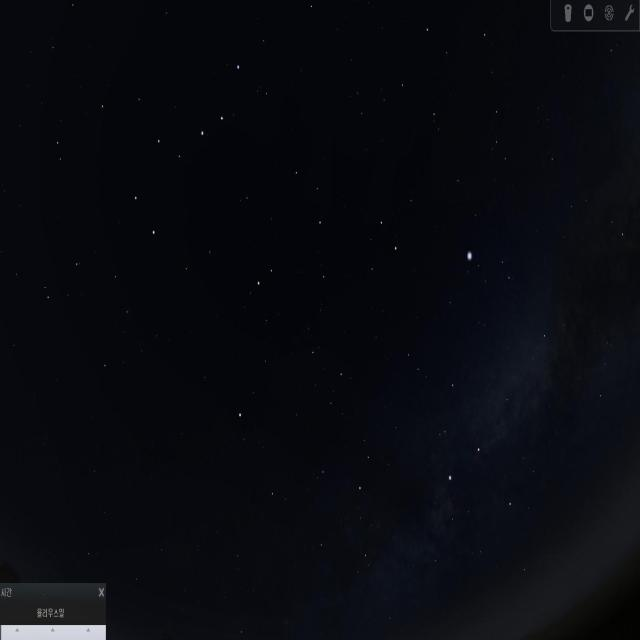cygnus: (439, 326, 555, 524)
lyra: (462, 230, 515, 298)
ursa_major: (124, 41, 244, 242)
